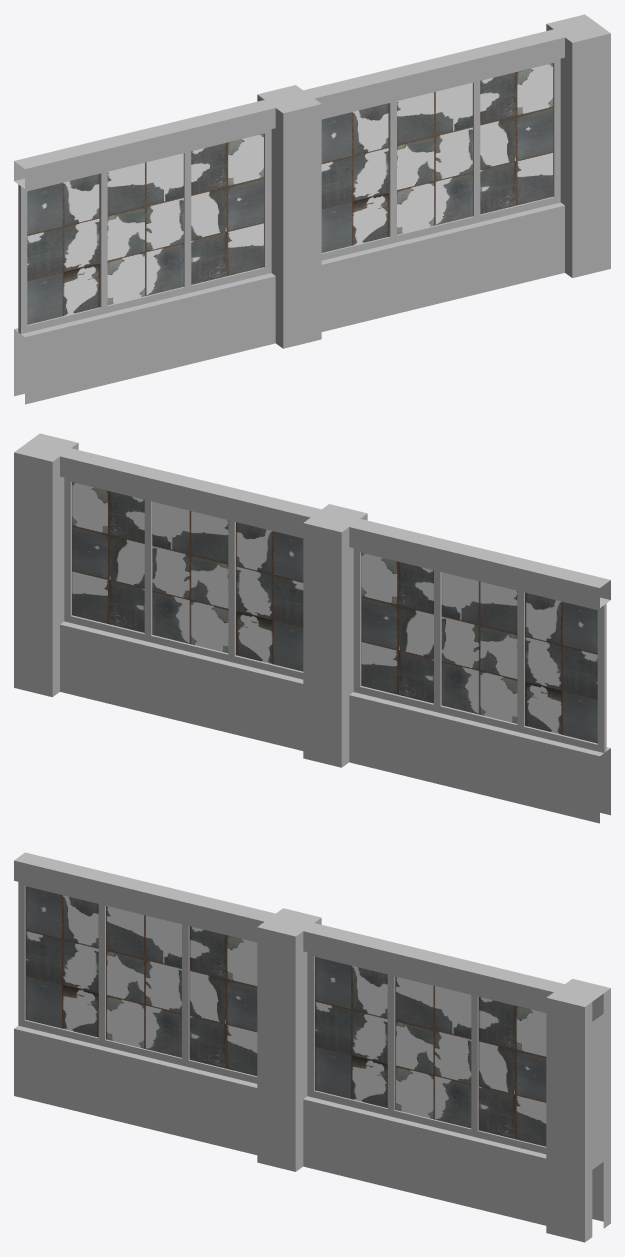
Rendered from Factory4Wall01.FBX.
3 views of the same model, one above another, from view 1: azimuth 30°, elevation 25°; view 2: azimuth 150°, elevation 25°; view 3: azimuth 330°, elevation 25° (orthographic).
Parts seen in each view (by area): view 1: Factory4Wall01, Factory4Wall01Glass; view 2: Factory4Wall01, Factory4Wall01Glass; view 3: Factory4Wall01, Factory4Wall01Glass.
Part boxes in pixels (x1=…): Factory4Wall01: x1=14, y1=14, x2=610, y2=404; Factory4Wall01Glass: x1=27, y1=63, x2=553, y2=324; Factory4Wall01: x1=14, y1=433, x2=610, y2=823; Factory4Wall01Glass: x1=72, y1=482, x2=597, y2=743; Factory4Wall01: x1=14, y1=852, x2=610, y2=1242; Factory4Wall01Glass: x1=25, y1=886, x2=546, y2=1146.
Size of the model in its own units: 900 by 350 by 70.
